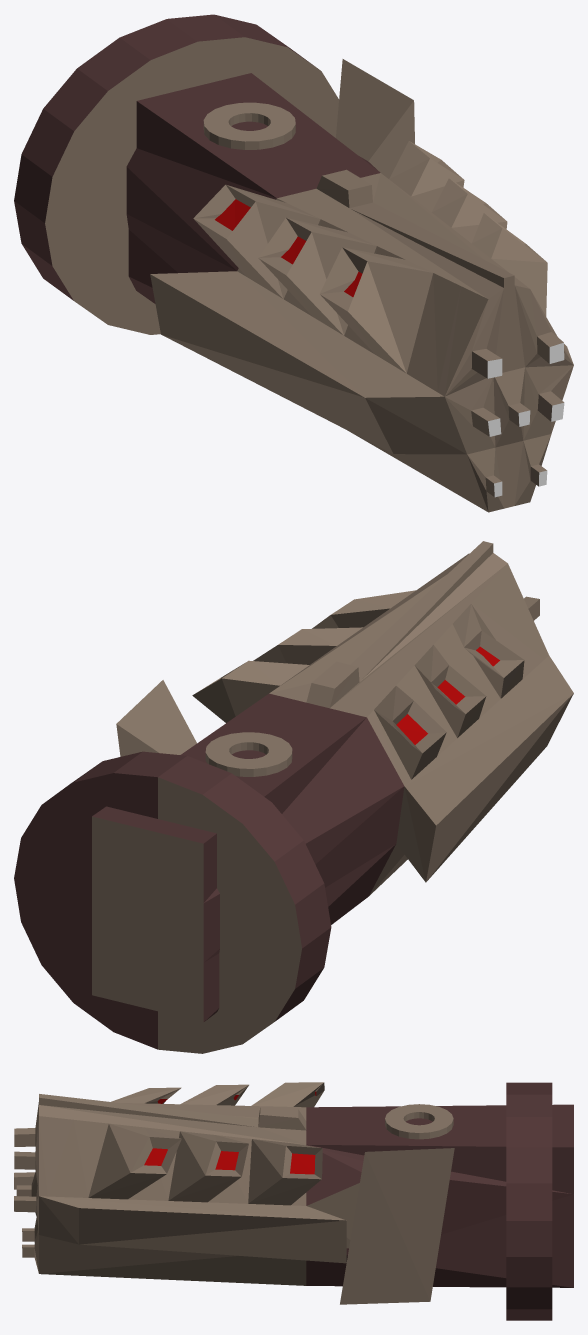
Rendered from Shotgun.fbx.
3 renders of one model, top to bottom at view 1: azimuth 30°, elevation 25°; view 2: azimuth 150°, elevation 25°; view 3: azimuth 270°, elevation 25°, orthographic. The views are drawn at different scales.
Parts seen in each view (by area): view 1: polySurface28; view 2: polySurface28; view 3: polySurface28.
Boxes of the visible parts, x1,y1,x2,y2 form: polySurface28: [14, 14, 573, 512]; polySurface28: [14, 541, 573, 1053]; polySurface28: [14, 1082, 573, 1320].
Bounding box in the file's own units: 5.68 × 5.08 × 12.05.
